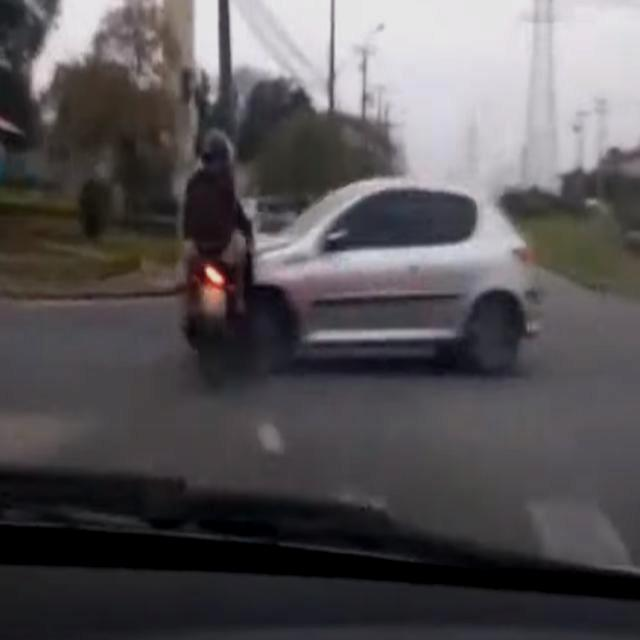accident: (175, 125, 548, 388)
